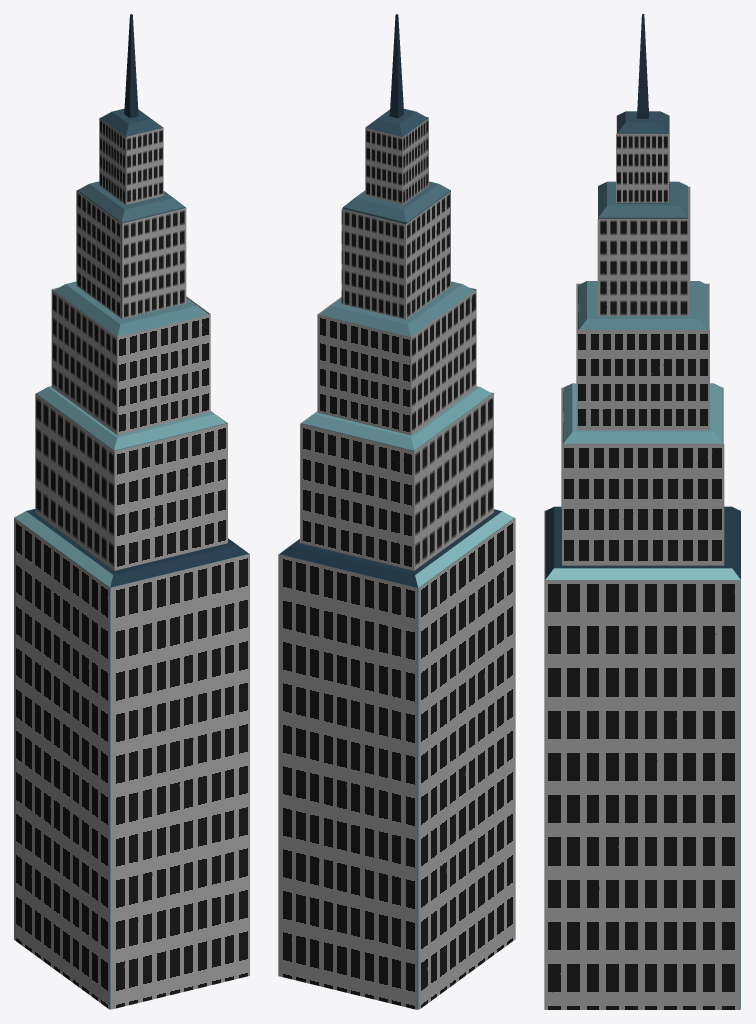
The model's file is skyscraper 2.fbx.
3 renders of one model, left to right at view 1: azimuth 30°, elevation 25°; view 2: azimuth 150°, elevation 25°; view 3: azimuth 270°, elevation 25°, orthographic.
Parts seen in each view (by area): view 1: pCube270; view 2: pCube270; view 3: pCube270.
Boxes of the visible parts, bbox=[...] form: pCube270: bbox=[14, 14, 249, 1009]; pCube270: bbox=[278, 14, 515, 1009]; pCube270: bbox=[544, 14, 740, 1009].
Size of the model in its own units: 28.72 by 185 by 34.44.
